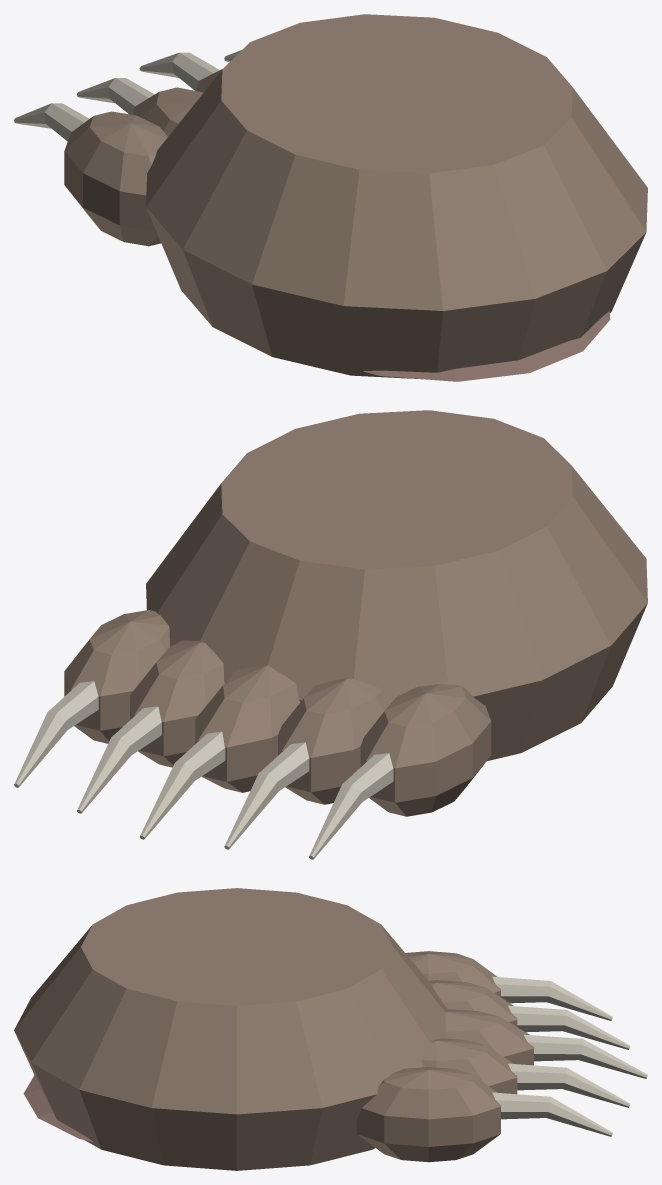
Rendered from bear_foot_fr_01.glb.
3 views of the same model, one above another, from view 1: azimuth 30°, elevation 25°; view 2: azimuth 150°, elevation 25°; view 3: azimuth 270°, elevation 25° (orthographic). The views are drawn at different scales.
Visible parts, largest first — view 1: FrontRPaw, FrontRToe0, FrontRPalm, FrontRToe1, FrontRClaw2, FrontRClaw1, FrontRClaw0; view 2: FrontRPaw, FrontRToe0, FrontRToe1, FrontRToe2, FrontRToe4, FrontRToe3, FrontRClaw2, FrontRClaw1, FrontRClaw0, FrontRClaw4, FrontRClaw3; view 3: FrontRPaw, FrontRToe4, FrontRToe3, FrontRToe2, FrontRClaw2, FrontRClaw3, FrontRClaw4, FrontRClaw1, FrontRClaw0, FrontRToe0, FrontRToe1, FrontRPalm.
Boxes of the visible parts, x1,y1,x2,y2 form: FrontRPaw: (146, 14, 647, 379); FrontRToe0: (64, 111, 167, 246); FrontRPalm: (363, 311, 610, 381); FrontRToe1: (132, 87, 203, 136); FrontRClaw2: (139, 52, 219, 90); FrontRClaw1: (77, 78, 154, 114); FrontRClaw0: (14, 103, 89, 141); FrontRPaw: (146, 410, 647, 760); FrontRToe0: (360, 684, 491, 816); FrontRToe1: (278, 677, 388, 804); FrontRToe2: (195, 665, 300, 792); FrontRToe4: (64, 610, 169, 743); FrontRToe3: (130, 640, 224, 767); FrontRClaw2: (140, 731, 225, 839); FrontRClaw1: (224, 742, 309, 849); FrontRClaw0: (309, 753, 393, 859); FrontRClaw4: (14, 681, 98, 787); FrontRClaw3: (77, 706, 161, 813); FrontRPaw: (14, 888, 449, 1170); FrontRToe4: (356, 1067, 500, 1162); FrontRToe3: (421, 1038, 517, 1094); FrontRToe2: (445, 1009, 533, 1065); FrontRClaw2: (524, 1034, 647, 1078); FrontRClaw3: (508, 1063, 630, 1107); FrontRClaw4: (492, 1092, 612, 1136); FrontRClaw1: (508, 1005, 630, 1049); FrontRClaw0: (492, 976, 612, 1020); FrontRToe0: (405, 951, 500, 996); FrontRToe1: (429, 980, 517, 1026); FrontRPalm: (23, 1075, 93, 1141).
Size of the model in its own units: 0.25 by 0.1088 by 0.398.
